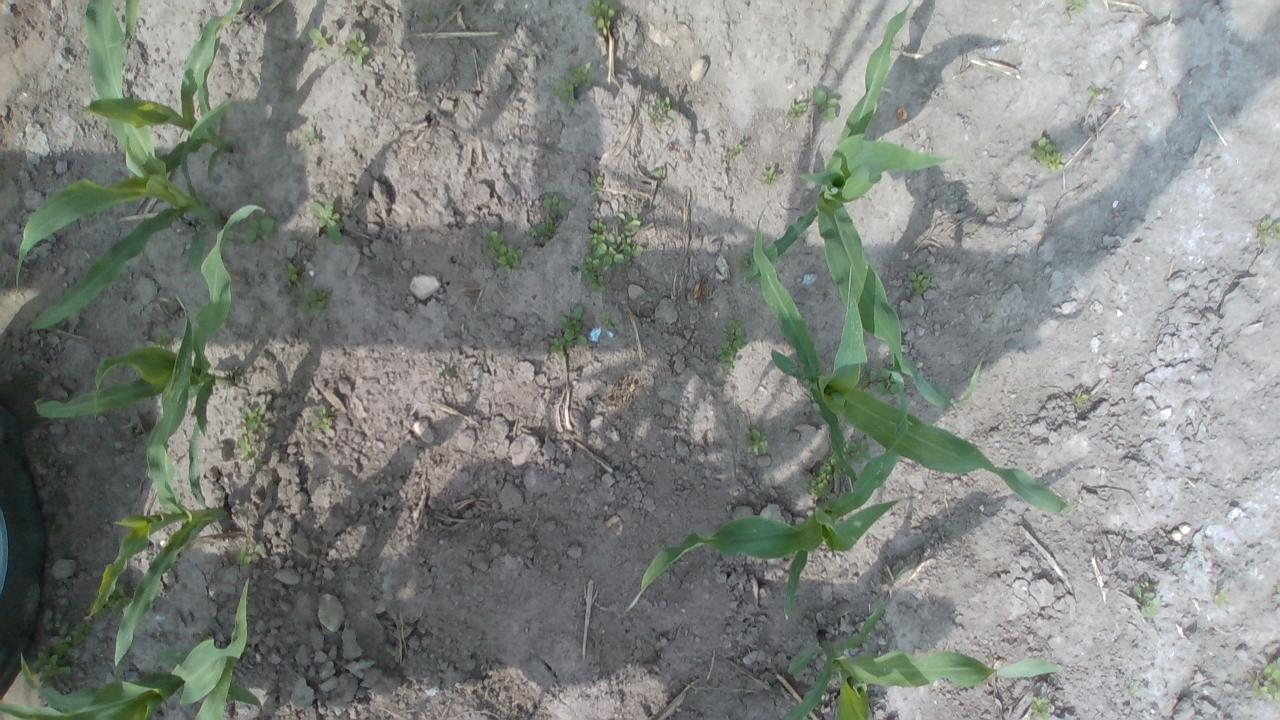Maize: (754, 196, 1072, 514), (744, 1, 984, 408), (3, 0, 231, 331), (626, 390, 912, 624), (29, 202, 268, 424), (95, 286, 228, 664), (2, 573, 256, 720), (790, 607, 1064, 720), (78, 0, 246, 184)
Weeds: (577, 220, 645, 294), (801, 439, 870, 500), (523, 194, 568, 246), (42, 610, 94, 653), (236, 402, 268, 469), (480, 226, 524, 274), (548, 307, 588, 358), (29, 651, 77, 692), (552, 62, 593, 109), (714, 317, 748, 372), (307, 198, 344, 246), (89, 581, 134, 619), (856, 362, 904, 396), (1028, 137, 1064, 174), (1252, 656, 1280, 702), (297, 285, 334, 319), (585, 0, 619, 36), (339, 28, 369, 68), (1132, 579, 1163, 617), (242, 212, 278, 244), (812, 88, 841, 123), (646, 96, 676, 128), (742, 426, 769, 456), (908, 269, 937, 294), (310, 406, 335, 435), (236, 543, 263, 566), (616, 210, 643, 232), (1258, 216, 1280, 243), (151, 328, 175, 352), (298, 126, 320, 151), (308, 28, 334, 49), (1210, 586, 1234, 608), (1030, 695, 1051, 720), (1064, 0, 1088, 21), (786, 100, 808, 122), (734, 250, 754, 274), (284, 262, 300, 284), (761, 166, 779, 184), (600, 312, 618, 329), (590, 174, 604, 193), (726, 144, 744, 158), (1072, 392, 1088, 405), (1086, 86, 1102, 98), (421, 10, 434, 24), (650, 166, 668, 176), (436, 364, 448, 374), (234, 374, 244, 384), (1276, 583, 1280, 592)
